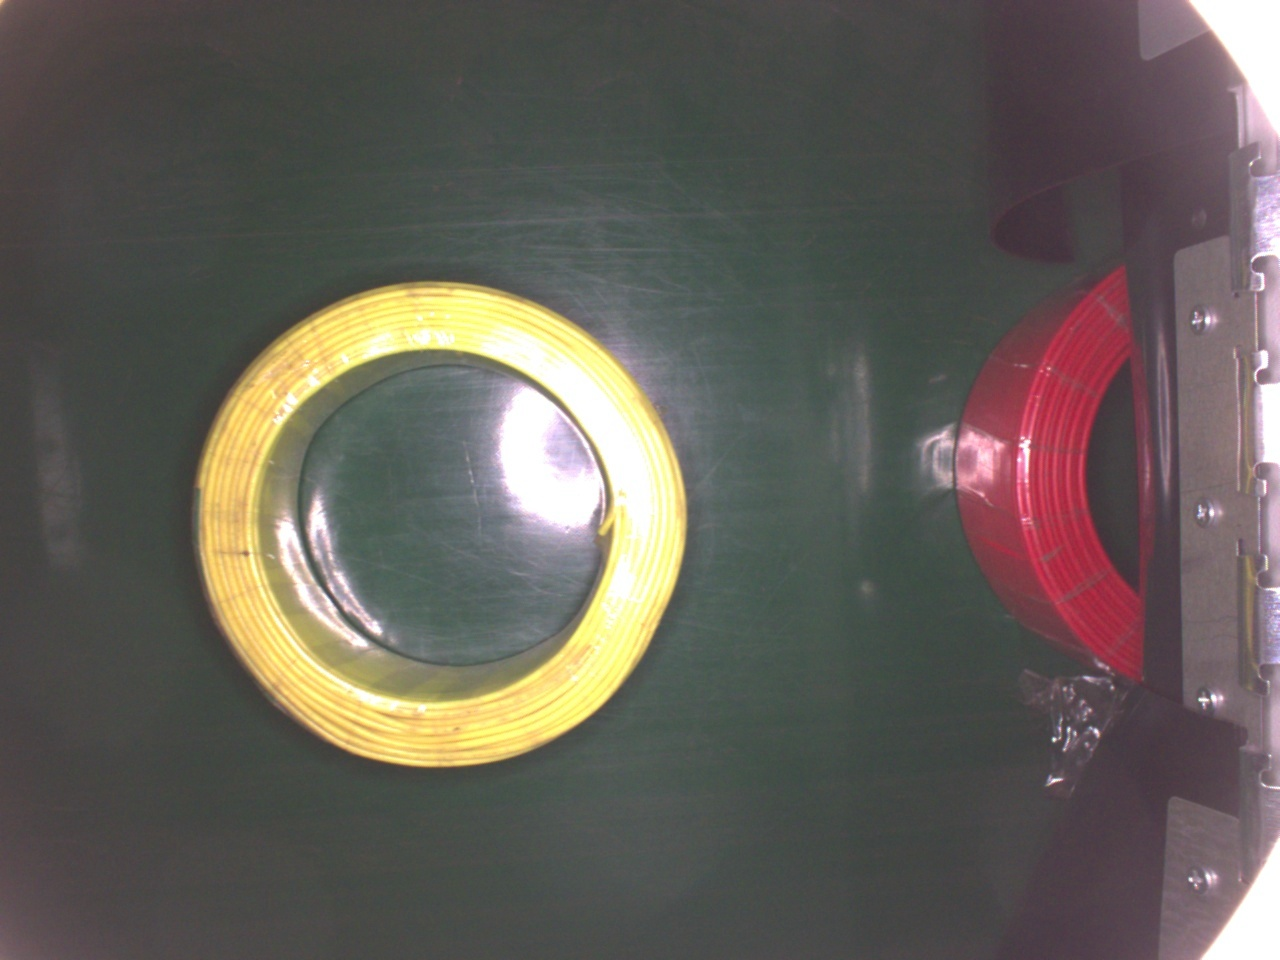red: (952, 255, 1147, 686)
yellow: (188, 277, 689, 769)
